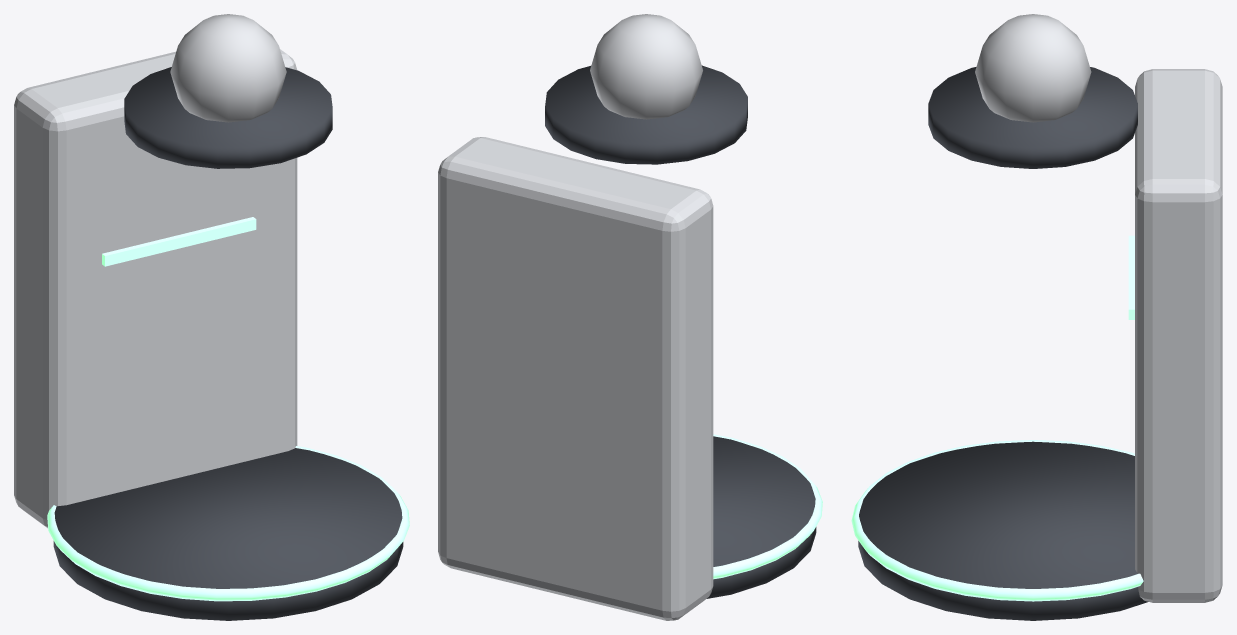
Rendered from drone_dock_wall_charger.glb.
The picture shows the model from 3 angles, left to right: view 1: azimuth 30°, elevation 25°; view 2: azimuth 150°, elevation 25°; view 3: azimuth 270°, elevation 25°; orthographic projection. The views are drawn at different scales.
Parts seen in each view (by area): view 1: GD_drone_dock_wall_charger__m2, GD_drone_dock_wall_charger__m0, GD_drone_dock_wall_charger__m1; view 2: GD_drone_dock_wall_charger__m2, GD_drone_dock_wall_charger__m0, GD_drone_dock_wall_charger__m1; view 3: GD_drone_dock_wall_charger__m2, GD_drone_dock_wall_charger__m0, GD_drone_dock_wall_charger__m1.
Part boxes in pixels (x1=…): GD_drone_dock_wall_charger__m2: x1=14, y1=14, x2=297, y2=528; GD_drone_dock_wall_charger__m0: x1=53, y1=67, x2=403, y2=620; GD_drone_dock_wall_charger__m1: x1=47, y1=217, x2=409, y2=601; GD_drone_dock_wall_charger__m2: x1=438, y1=14, x2=713, y2=620; GD_drone_dock_wall_charger__m0: x1=545, y1=65, x2=816, y2=598; GD_drone_dock_wall_charger__m1: x1=713, y1=434, x2=822, y2=579; GD_drone_dock_wall_charger__m2: x1=975, y1=14, x2=1222, y2=602; GD_drone_dock_wall_charger__m0: x1=858, y1=67, x2=1148, y2=620; GD_drone_dock_wall_charger__m1: x1=851, y1=235, x2=1143, y2=601.
Bounding box in the file's own units: 0.624 × 1 × 0.637.
